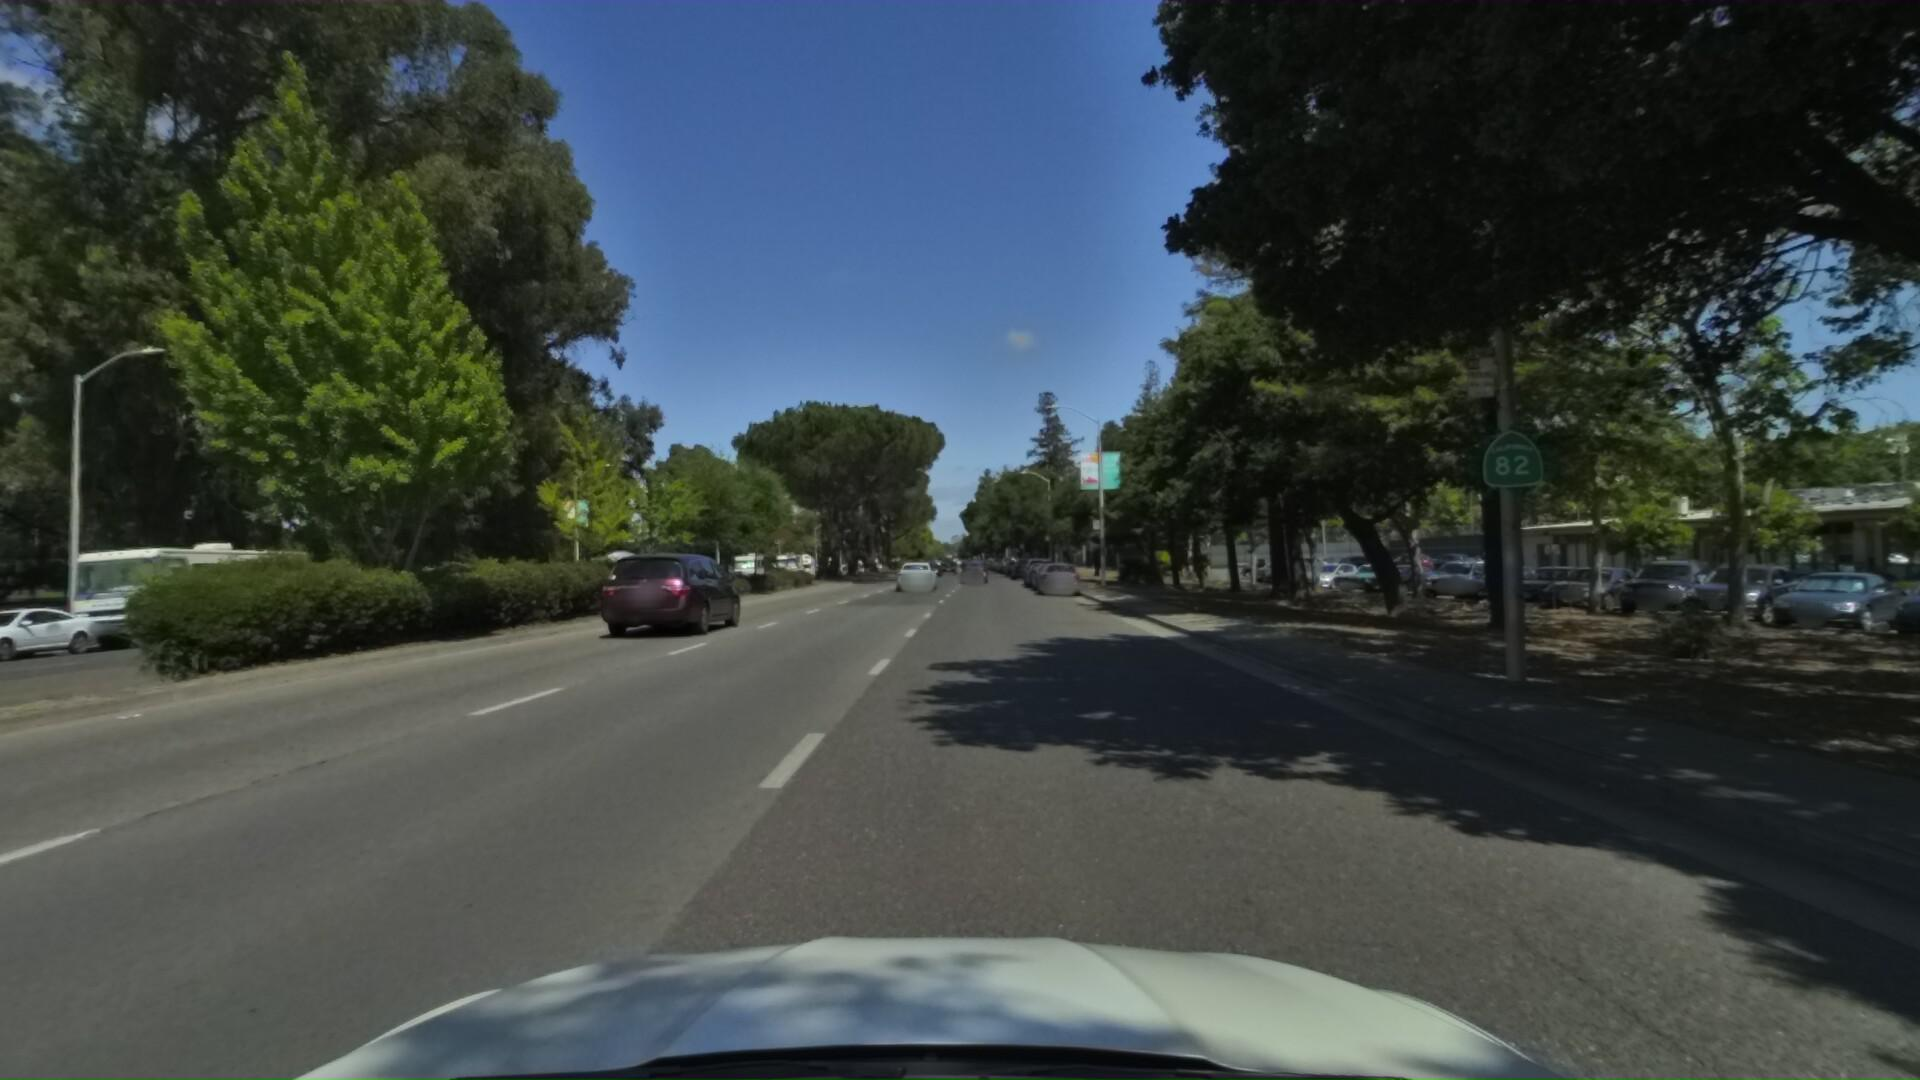car: (593, 542, 748, 647), (0, 596, 98, 666), (1035, 551, 1085, 588), (894, 554, 938, 592), (1025, 553, 1063, 582), (956, 556, 988, 589), (1023, 549, 1058, 578), (1010, 549, 1036, 572)
other_vehicle: (40, 524, 316, 658), (578, 542, 662, 593)
